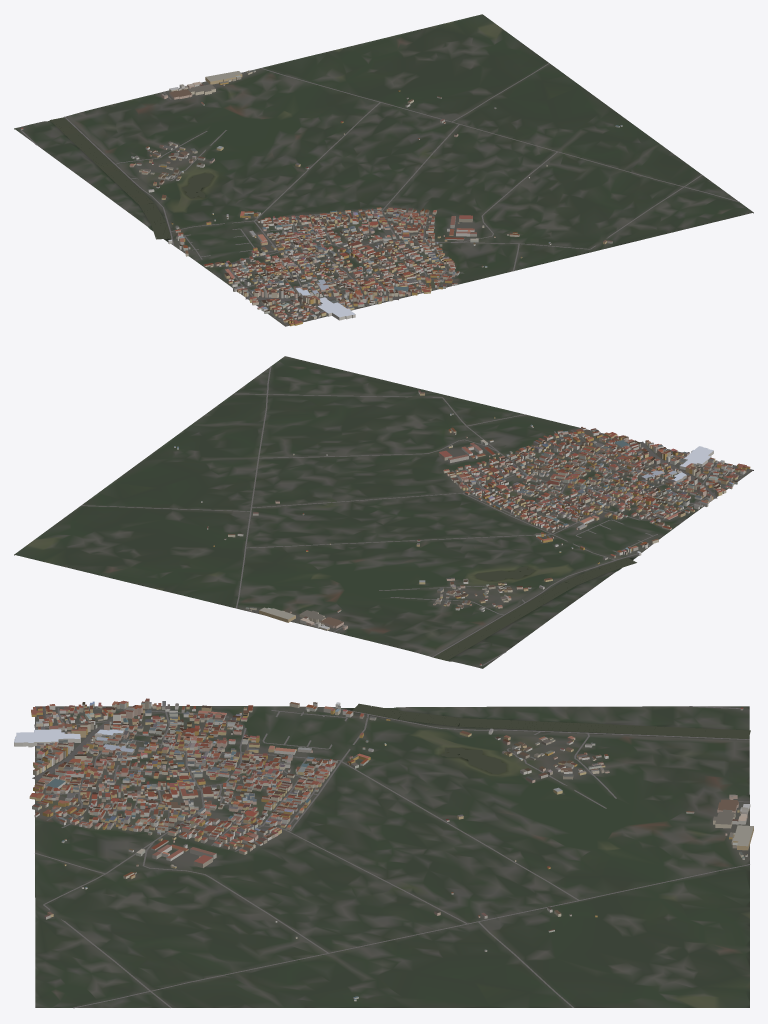
3 renders of one model, top to bottom at view 1: azimuth 30°, elevation 25°; view 2: azimuth 150°, elevation 25°; view 3: azimuth 270°, elevation 25°, orthographic. The views are drawn at different scales.
Parts seen in each view (by area): view 1: ground, buildings, roads, water; view 2: ground, buildings, roads, water; view 3: ground, buildings, roads, water.
Part boxes in pixels (box(x1,y1,x2,y2)): ground: box(14, 14, 753, 326); buildings: box(21, 70, 622, 326); roads: box(20, 63, 739, 326); water: box(50, 117, 213, 239); ground: box(14, 356, 753, 668); buildings: box(174, 390, 750, 665); roads: box(81, 366, 753, 665); water: box(434, 557, 636, 660); ground: box(35, 706, 749, 1007); buildings: box(14, 698, 753, 1001); roads: box(32, 706, 749, 1008); water: box(352, 703, 750, 773).
Bounding box in the file's own units: 1419 × 27.46 × 1451.
